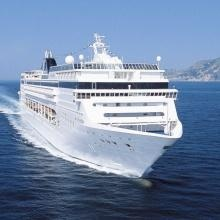youlun: (10, 34, 183, 175)
